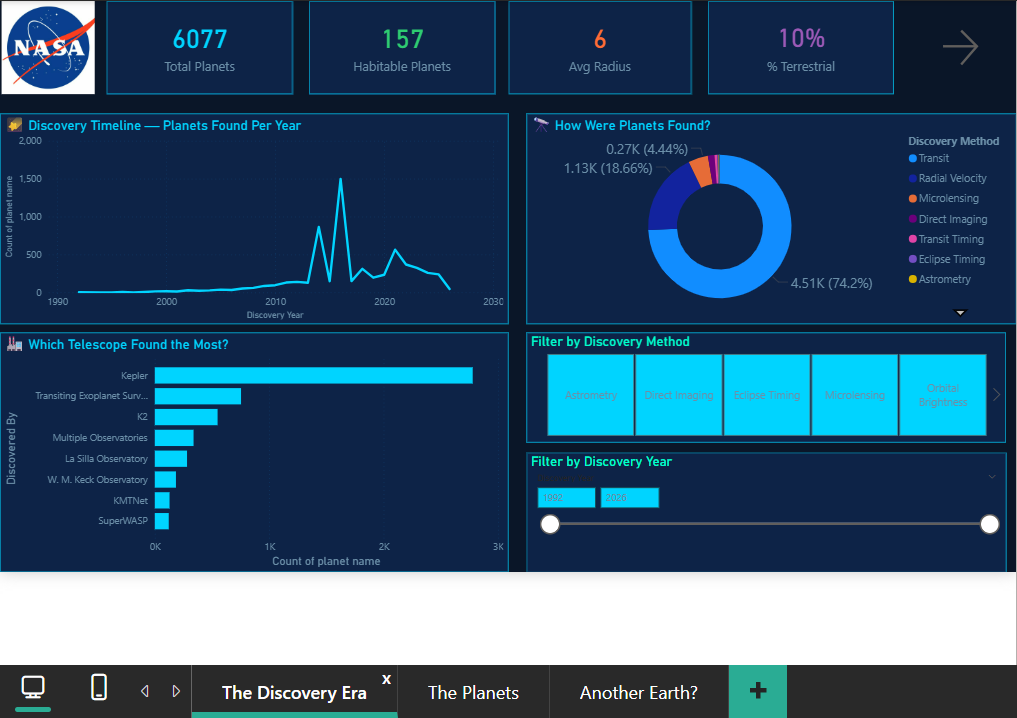

The page's visual inventory and layout, read from the dashboard file:
{"tool":"powerbi","page":{"name":"The Discovery Era","canvas":[1280,720],"ordinal":0},"visuals":[{"type":"image","box":[0,0,121.2,117.3],"z":0},{"type":"advanceCardE03760C5AB684758B56AA29F9E6C257B","fields":{"mainMeasure":["nasa_sxoplanets.Total Planets"]},"box":[134.6,0,234.6,117.3],"z":1000},{"type":"advanceCardE03760C5AB684758B56AA29F9E6C257B","fields":{"mainMeasure":["nasa_sxoplanets.Habitable Planets"]},"box":[388.5,0,234.6,117.3],"z":2000},{"type":"advanceCardE03760C5AB684758B56AA29F9E6C257B","fields":{"mainMeasure":["nasa_sxoplanets.Avg Radius"]},"box":[640.4,0,230.8,117.3],"z":3000},{"type":"advanceCardE03760C5AB684758B56AA29F9E6C257B","fields":{"mainMeasure":["nasa_sxoplanets.% Terrestrial"]},"box":[892,0,234.3,117.2],"z":4000},{"type":"lineChart","title":"🌠 Discovery Timeline — Planets Found Per Year","fields":{"Category":["nasa_sxoplanets.disc_year"],"Y":["CountNonNull(nasa_sxoplanets.pl_name)"]},"box":[0,142.3,640.4,265.4],"z":5000},{"type":"donutChart","title":"🔭 How Were Planets Found?","fields":{"Y":["CountNonNull(nasa_sxoplanets.pl_name)"],"Category":["nasa_sxoplanets.Discovery Method"]},"box":[663.5,142.3,617.3,265.4],"z":6000},{"type":"clusteredBarChart","title":"🏭 Which Telescope Found the Most?","fields":{"Y":["CountNonNull(nasa_sxoplanets.pl_name)"],"Category":["nasa_sxoplanets.disc_facility"]},"box":[0,417.3,640.4,301.9],"z":7000},{"type":"slicer","title":"Filter by Discovery Method","fields":{"Values":["nasa_sxoplanets.Discovery Method"]},"box":[663.5,417.3,603.8,138.5],"z":8000},{"type":"slicer","title":"Filter by Discovery Year","fields":{"Values":["nasa_sxoplanets.disc_year"]},"box":[663.3,568.8,604.7,151.2],"z":9000},{"type":"actionButton","box":[1181.1,30.2,69.9,56.7],"z":10000}]}

Visuals, with their boxes on the page's 1280x720 design canvas (x1, y1, x2, y2). These are canvas units, not pixel positions in the 1017x718 screenshot, which may show the page scaled, cropped or inside an application window:
image: <region>0, 0, 121, 117</region>
advanceCardE03760C5AB684758B56AA29F9E6C257B - nasa_sxoplanets.Total Planets: <region>135, 0, 369, 117</region>
advanceCardE03760C5AB684758B56AA29F9E6C257B - nasa_sxoplanets.Habitable Planets: <region>388, 0, 623, 117</region>
advanceCardE03760C5AB684758B56AA29F9E6C257B - nasa_sxoplanets.Avg Radius: <region>640, 0, 871, 117</region>
advanceCardE03760C5AB684758B56AA29F9E6C257B - nasa_sxoplanets.% Terrestrial: <region>892, 0, 1126, 117</region>
"🌠 Discovery Timeline — Planets Found Per Year" lineChart: <region>0, 142, 640, 408</region>
"🔭 How Were Planets Found?" donutChart: <region>664, 142, 1281, 408</region>
"🏭 Which Telescope Found the Most?" clusteredBarChart: <region>0, 417, 640, 719</region>
"Filter by Discovery Method" slicer: <region>664, 417, 1267, 556</region>
"Filter by Discovery Year" slicer: <region>663, 569, 1268, 720</region>
actionButton: <region>1181, 30, 1251, 87</region>
